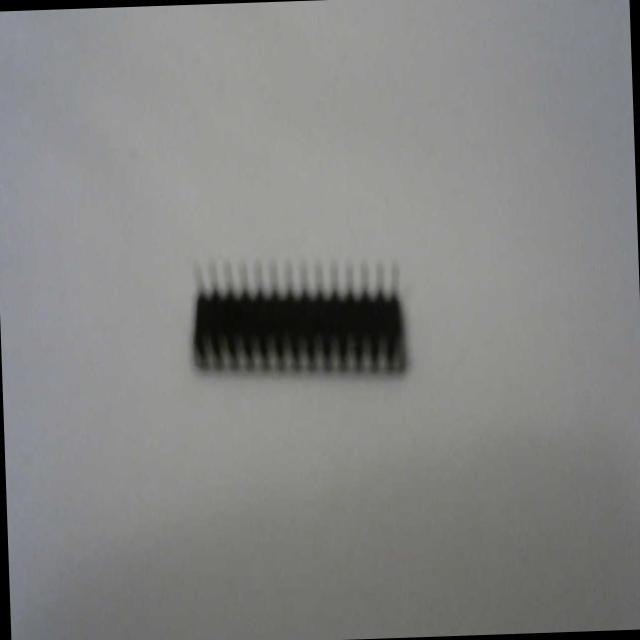atmega: (186, 246, 410, 388)
